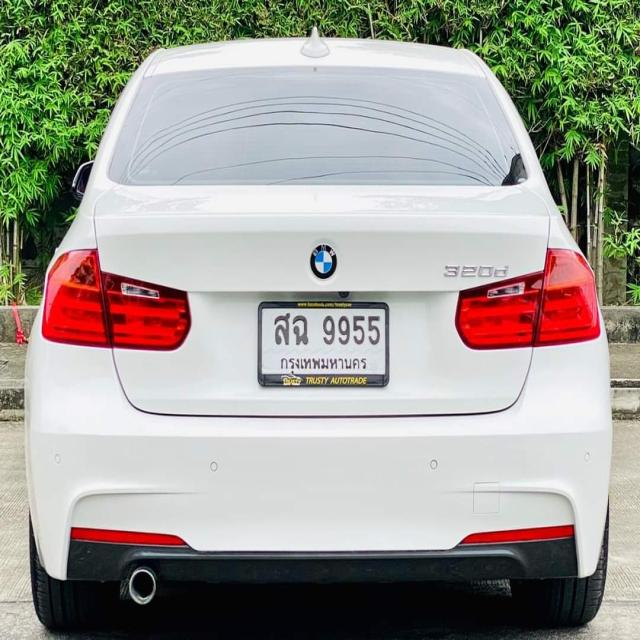license_plate: (255, 299, 391, 390)
